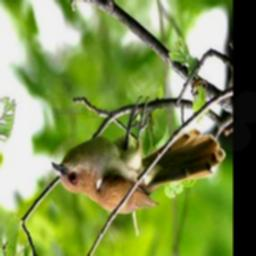Cuckoo: (50, 97, 226, 215)
